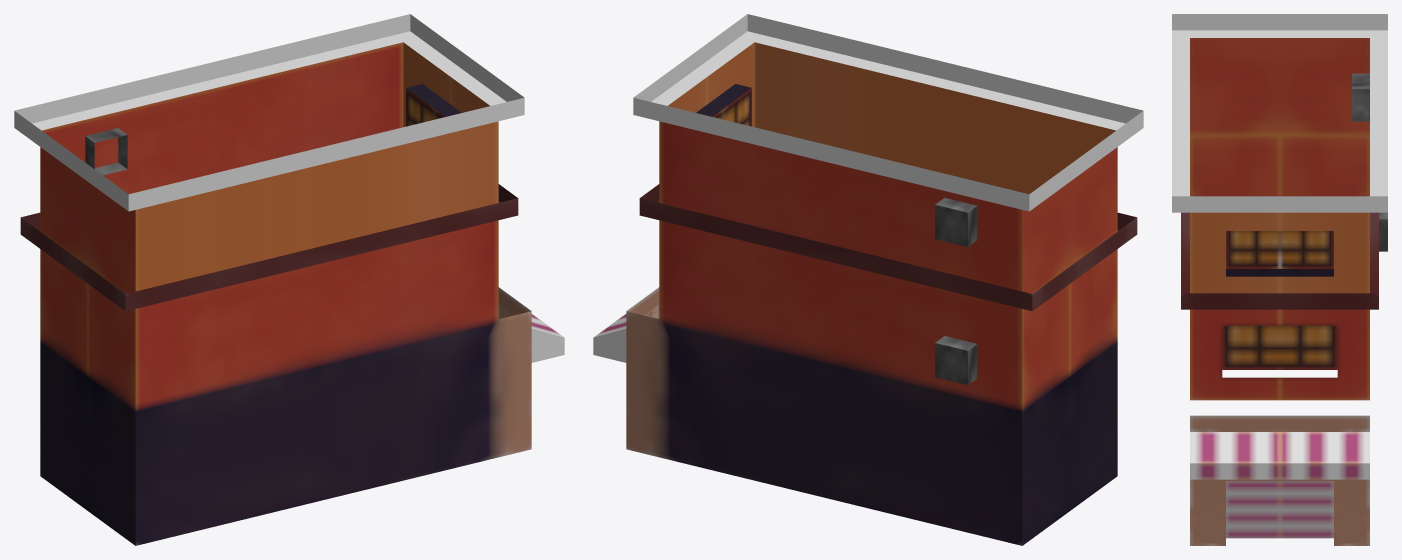
The model's file is m_bat04.fbx.
The picture shows the model from 3 angles, left to right: view 1: azimuth 30°, elevation 25°; view 2: azimuth 150°, elevation 25°; view 3: azimuth 270°, elevation 25°; orthographic projection. The views are drawn at different scales.
Parts seen in each view (by area): view 1: Cube.012; view 2: Cube.012; view 3: Cube.012.
Part boxes in pixels (x1,y1,x2,y2): Cube.012: (14,14,564,545); Cube.012: (593,14,1143,545); Cube.012: (1172,14,1387,545).
Bounding box in the file's own units: 2700 × 2100 × 1200.
1 material, 1 textured.
